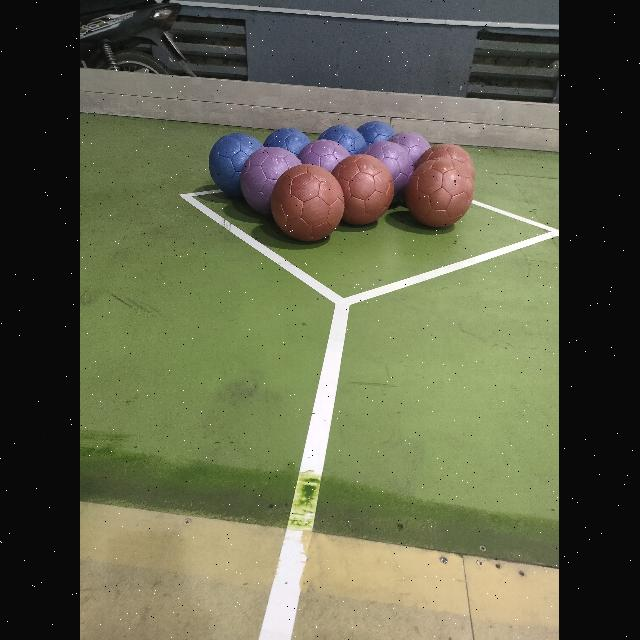B: (210, 133, 262, 197), (320, 125, 368, 155), (264, 128, 312, 154)
P: (241, 147, 301, 213), (366, 140, 414, 194), (299, 138, 351, 172)
R: (272, 164, 344, 240), (327, 155, 395, 225), (406, 165, 474, 227)
